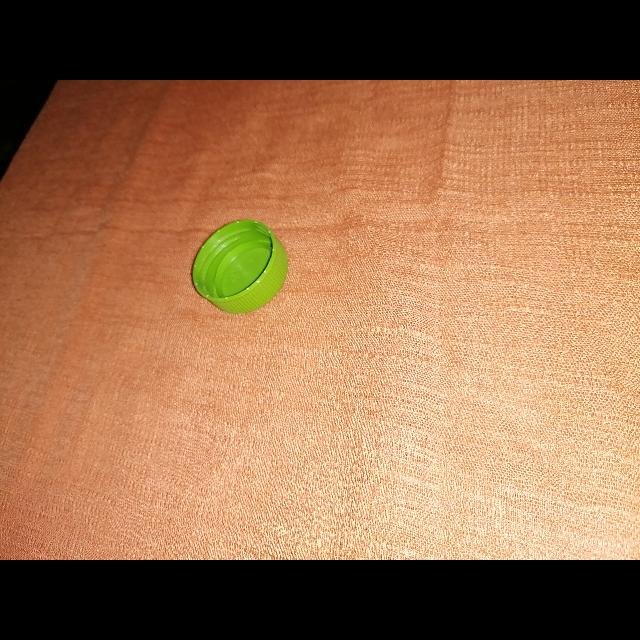plastic_bottle_cap: (192, 220, 288, 316)
